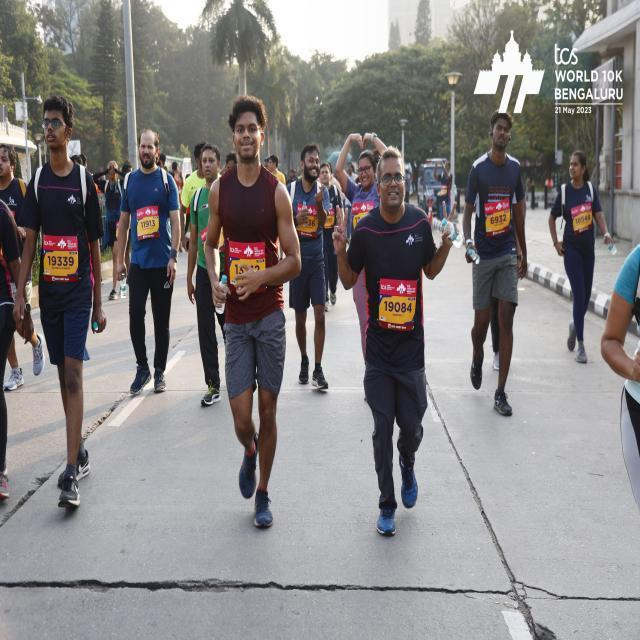dorsal: (42, 228, 78, 290), (378, 278, 417, 331), (484, 202, 511, 237), (136, 206, 160, 240)
